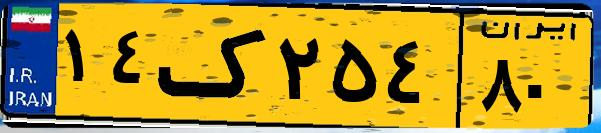0: (525, 38, 570, 115)
1: (57, 26, 110, 100)
2: (270, 28, 330, 110)
4: (385, 28, 445, 110), (110, 28, 158, 98)
5: (330, 28, 385, 110)
8: (475, 38, 525, 113)
ک: (158, 12, 270, 120)
